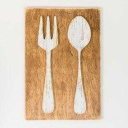Fork: (36, 11, 62, 120)
